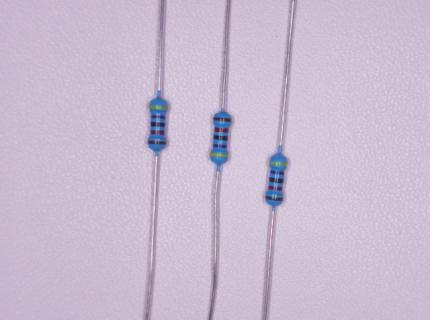Black band: (213, 135, 228, 141), (269, 177, 283, 183), (150, 122, 165, 127)
Brown band: (265, 195, 283, 202), (213, 117, 232, 123), (148, 141, 167, 145)
Red band: (214, 127, 229, 133), (268, 186, 283, 192), (150, 130, 165, 135)
Violet band: (150, 114, 166, 120), (270, 170, 285, 176), (213, 143, 227, 149)
Yellow band: (269, 161, 288, 167), (211, 152, 228, 158), (149, 105, 168, 110)
